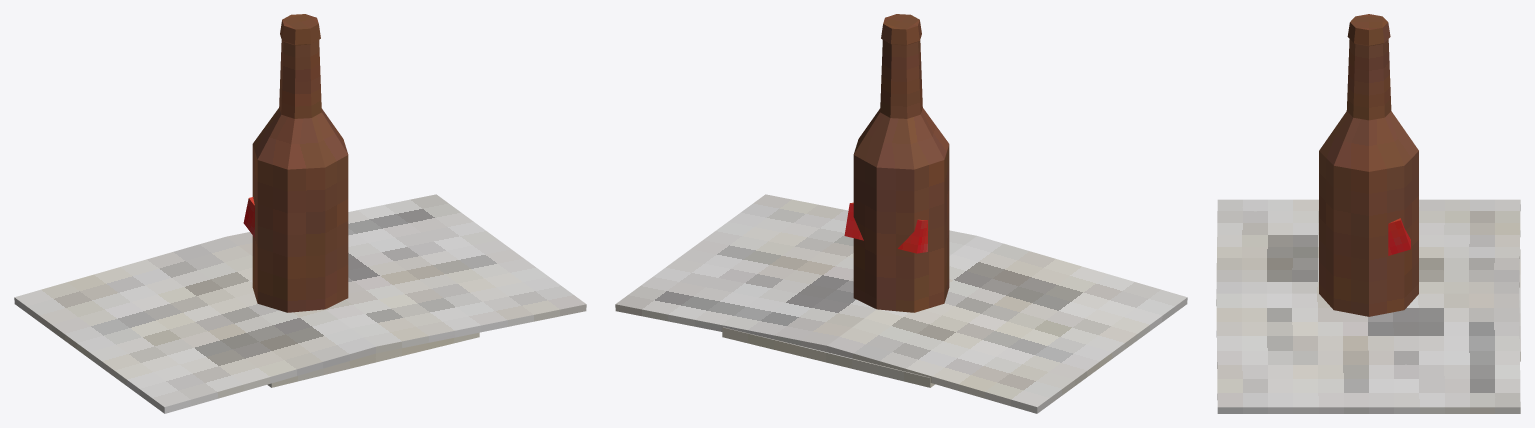
Rendered from Trash.glb.
The picture shows the model from 3 angles, left to right: view 1: azimuth 30°, elevation 25°; view 2: azimuth 150°, elevation 25°; view 3: azimuth 270°, elevation 25°; orthographic projection.
Parts seen in each view (by area): view 1: NewsPaper02, Bottle01, NewsPaper01; view 2: NewsPaper02, Bottle01, NewsPaper01, CigaretteBox02; view 3: NewsPaper02, Bottle01, CigaretteBox02.
Boxes of the visible parts, box(x1,y1,x2,y2) form: NewsPaper02: box(14, 194, 586, 413); Bottle01: box(252, 14, 348, 312); NewsPaper01: box(267, 332, 479, 387); NewsPaper02: box(615, 194, 1187, 413); Bottle01: box(853, 14, 949, 312); NewsPaper01: box(722, 327, 934, 387); CigaretteBox02: box(844, 202, 927, 253); NewsPaper02: box(1216, 199, 1520, 413); Bottle01: box(1319, 14, 1418, 316); CigaretteBox02: box(1388, 218, 1410, 255).
Bounding box in the file's own units: 0.6489 × 0.4199 × 0.4016.
Materials: 5 (5 with a texture image).
